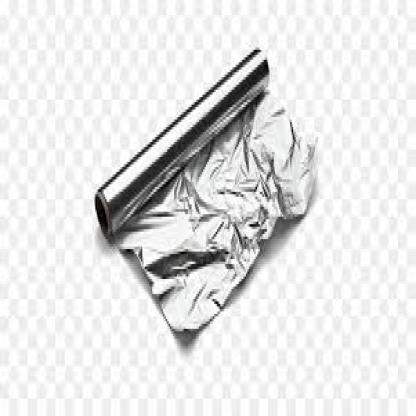METAL: (94, 42, 318, 334)
